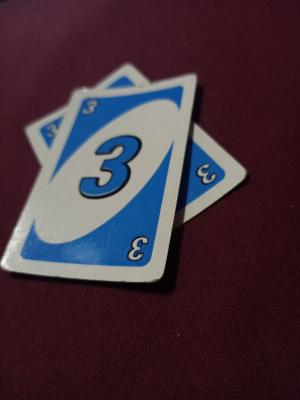blue: (79, 121, 146, 259)
num_3: (122, 230, 155, 265), (79, 97, 103, 120)
